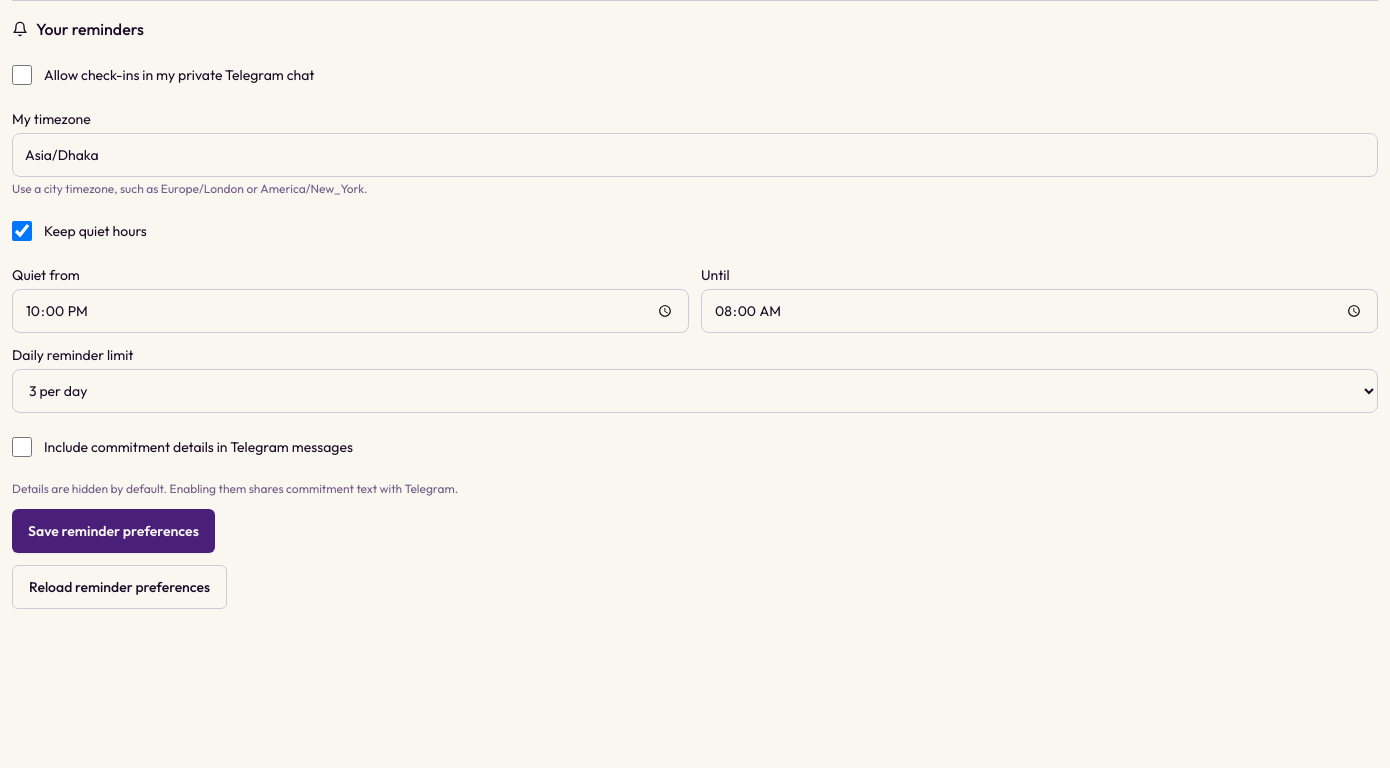
requires a reload after an uncertain preference save
Click the button "Save reminder preferences" at (113, 531), box 12,509 -> 215,553
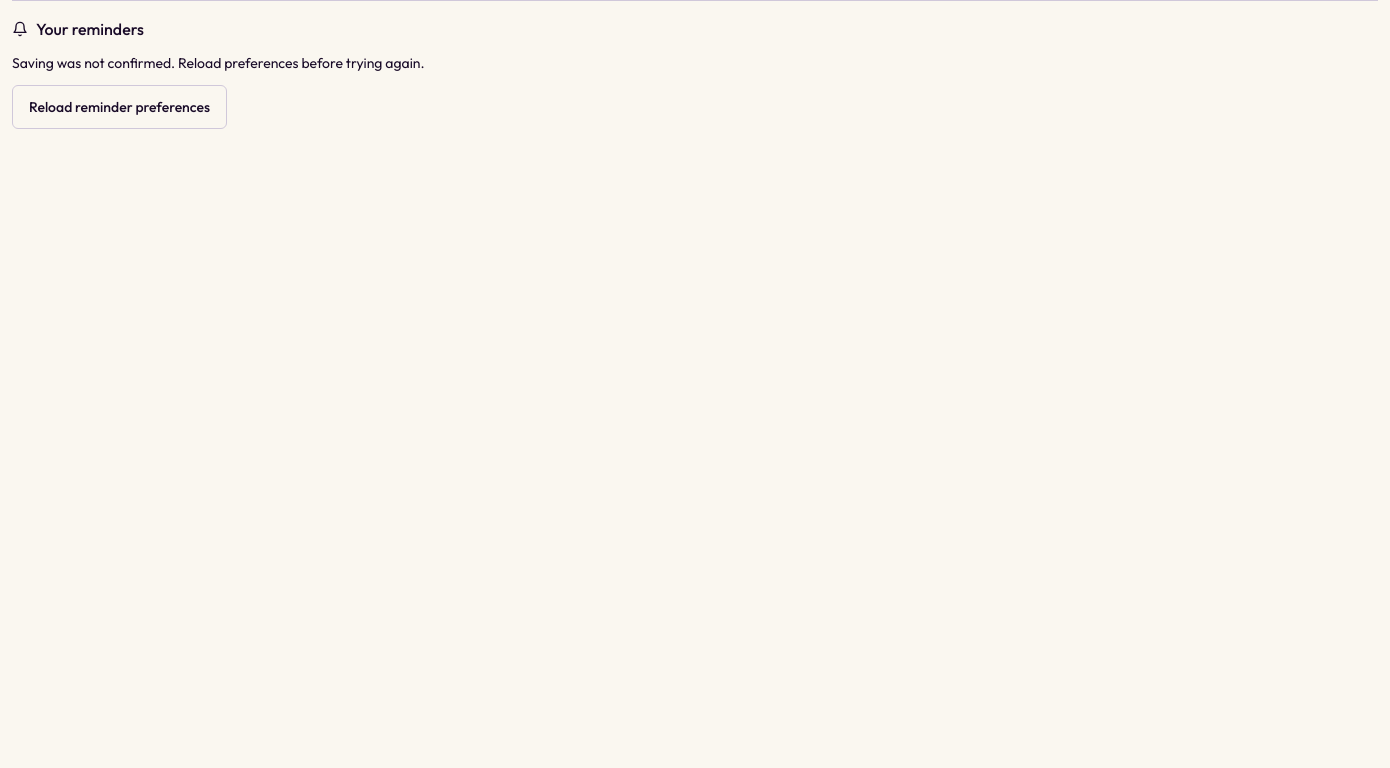
Expected: the message shows "Saving was not confirmed", 12,54 -> 425,72
Expected: the button "Save reminder preferences" is gone
